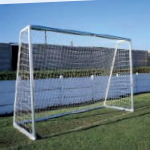goals: (12, 23, 136, 141)
